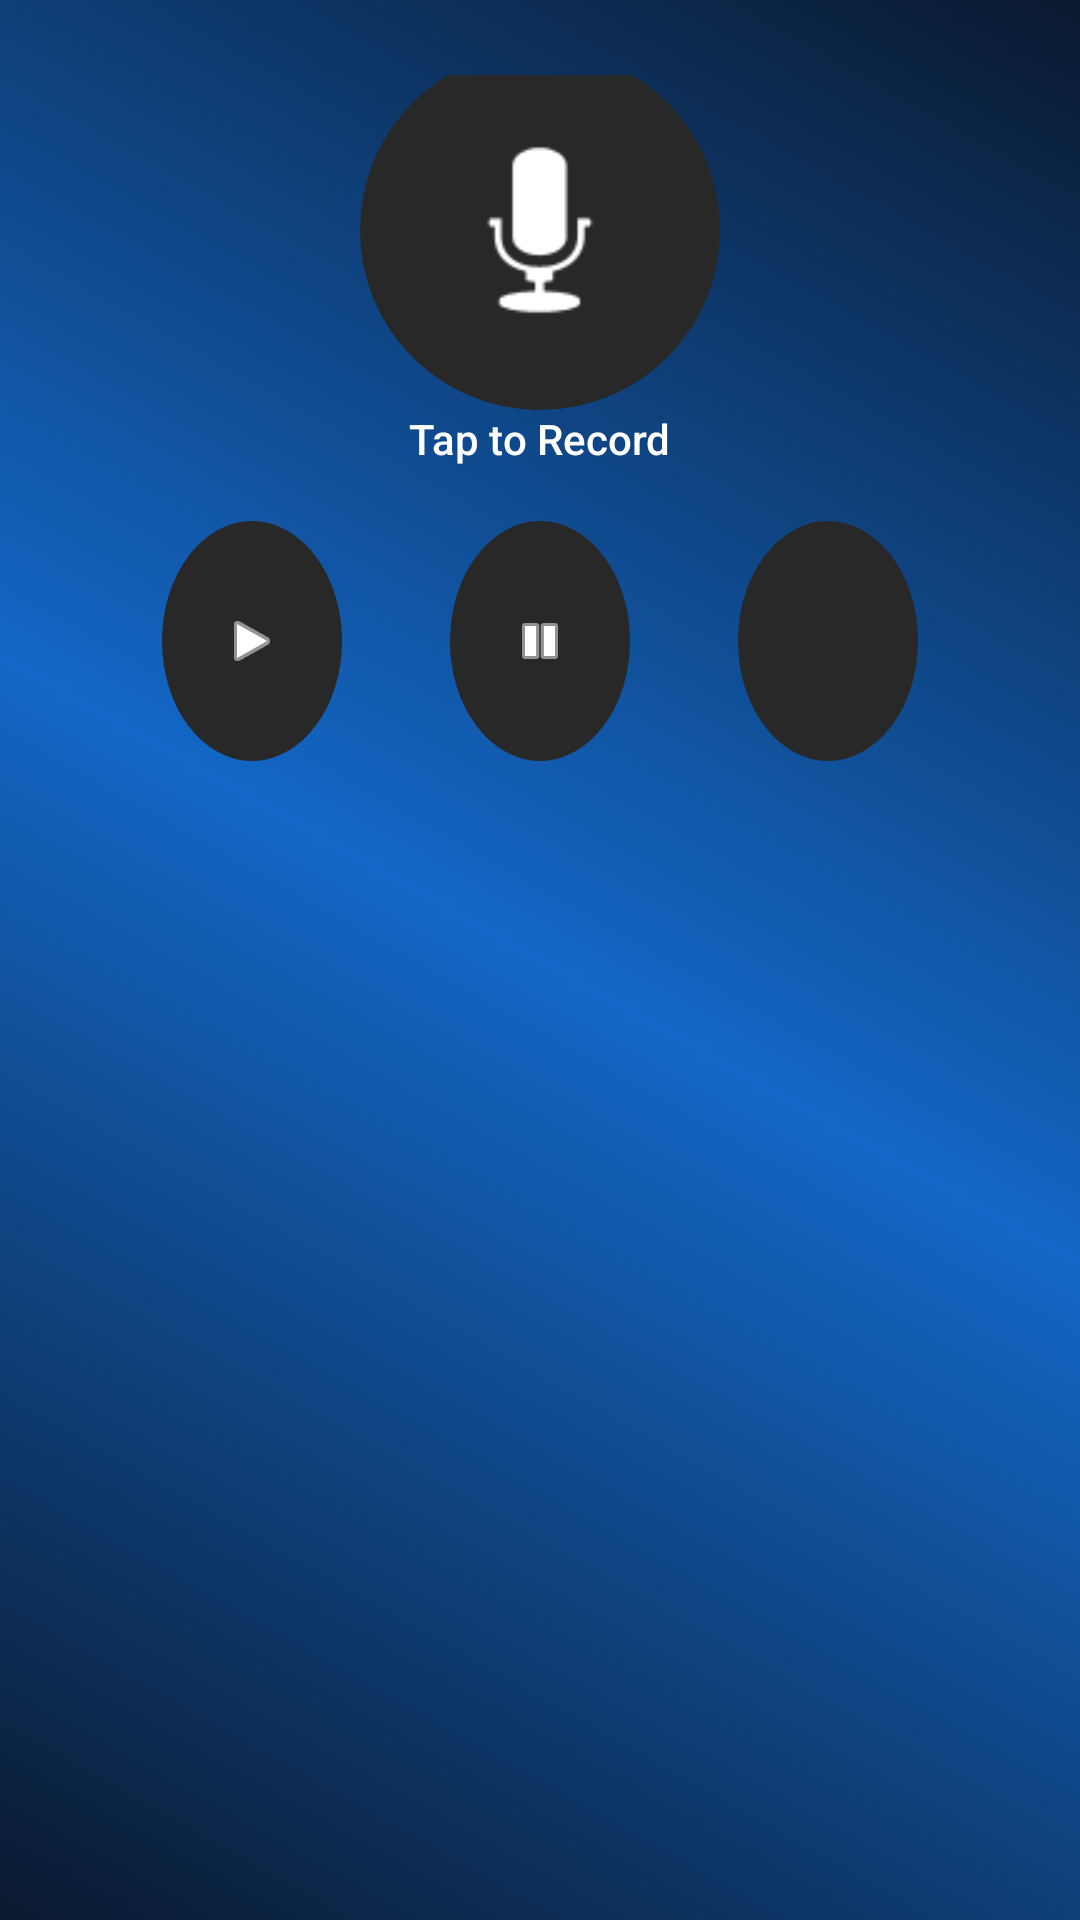

Icon bounding boxes for this 1080x1920 phone screenshot, format (x1, y1, x2, y2):
Pause: (450, 521, 630, 761)
Play: (162, 521, 342, 761)
